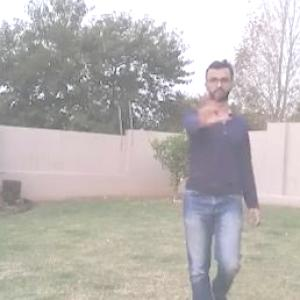follow_hand: (190, 86, 226, 128)
